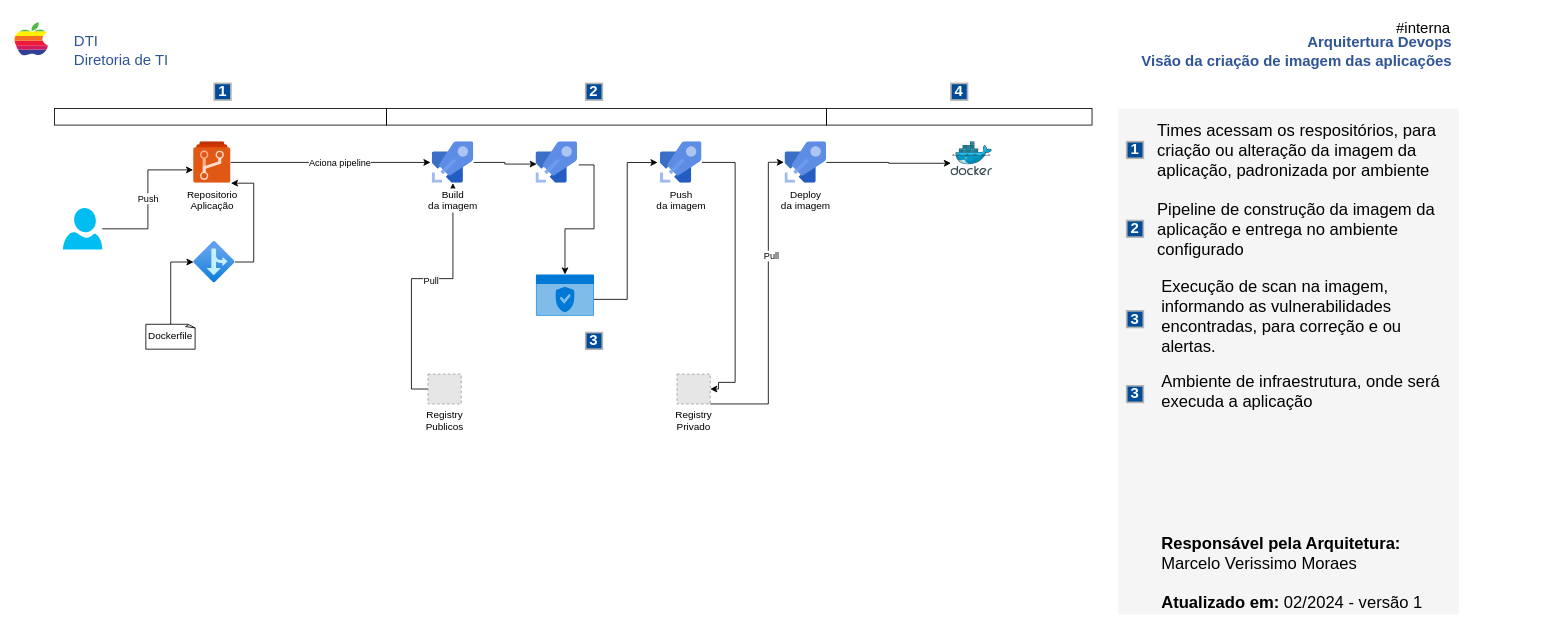
The diagram is 1565 pixels wide and 629 high, and some of its shapes have lost their labels. Grey dashed boxes stand in for pictures. The centre of each missing label's shape, as x and y in pixels:
Docker Swarm: the point at 971,158
Imagem container: the point at 220,116
Infraestrutura: the point at 959,116
Pipeline: the point at 606,116
Por Ambiente: the point at 214,261
Scan da imagem: the point at 556,162
Security: the point at 565,294
user: the point at 82,228
